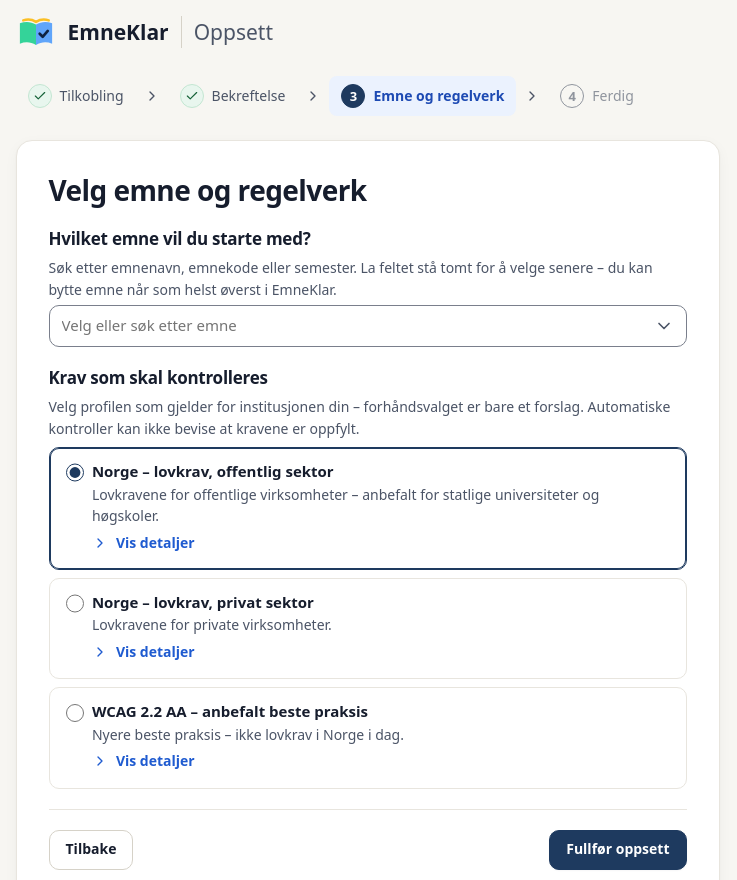
Test: Oppsett i fire steg › searches all the courses in one field – by name, code or term – and says when nothing matches
Click the dropdown named "Startemne" at (368, 326), box [50,306,686,346]
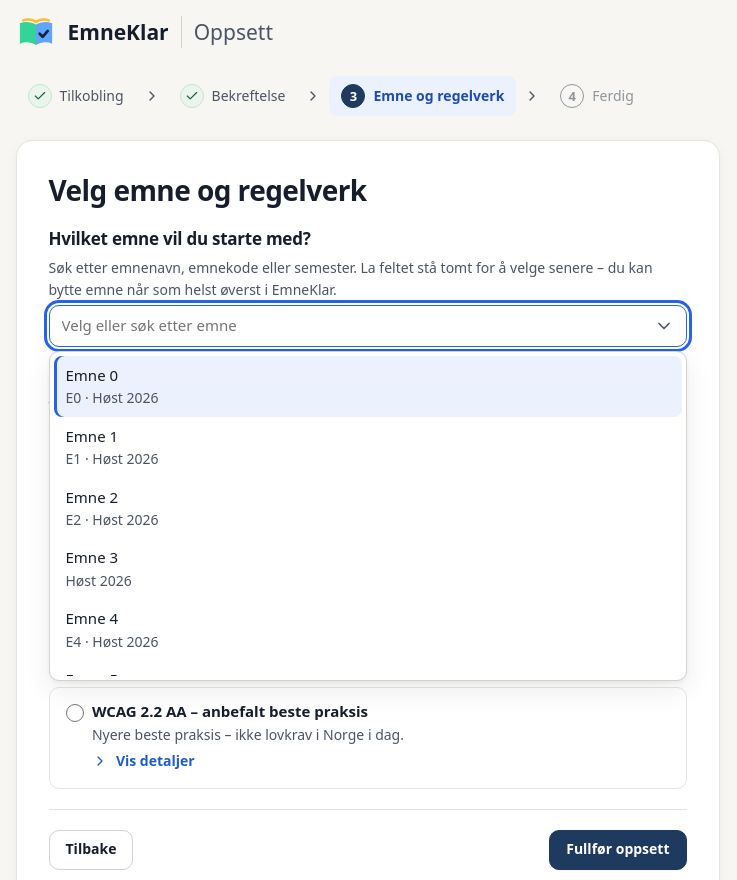
Type "kjemi" into the dropdown named "Startemne" at (368, 326), box [50,306,686,346]
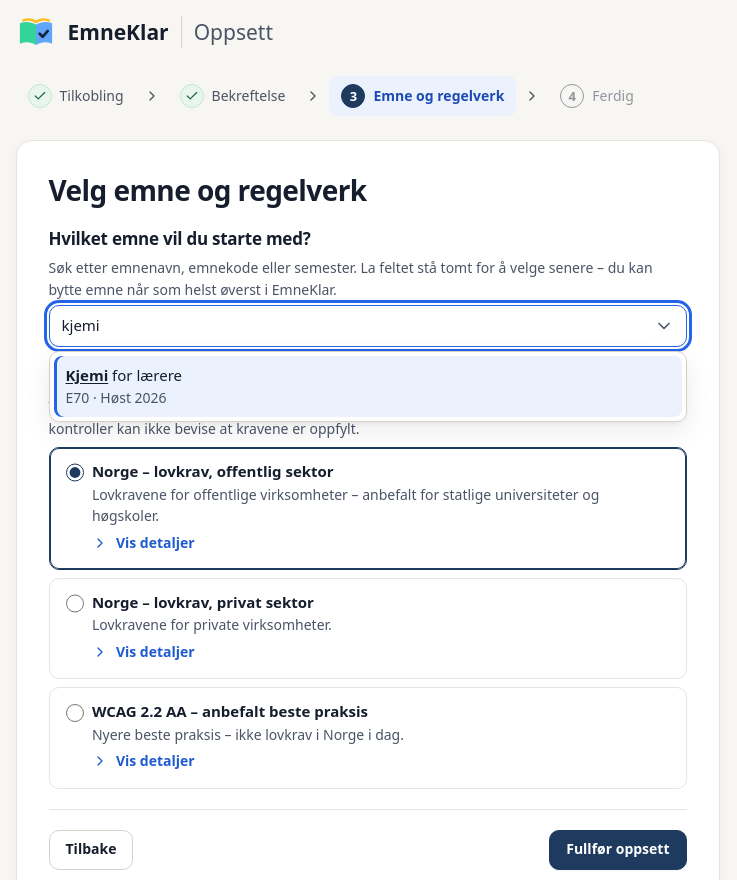
Replace the text in the dropdown named "Startemne" with "vår 2027" at (368, 326), box [50,306,686,346]
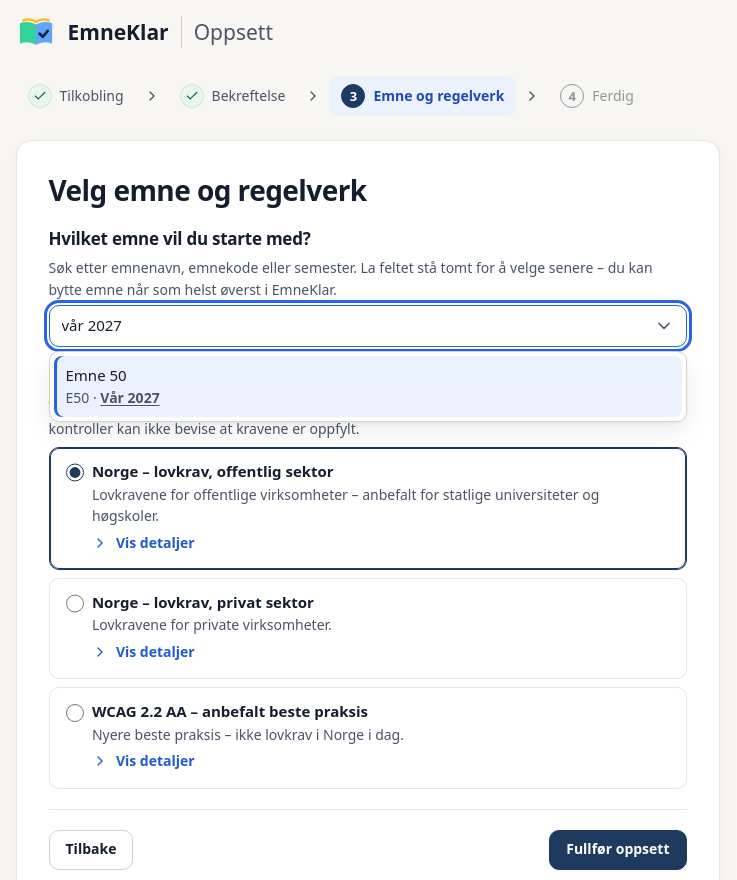
Replace the text in the dropdown named "Startemne" with "fysikk" at (368, 326), box [50,306,686,346]
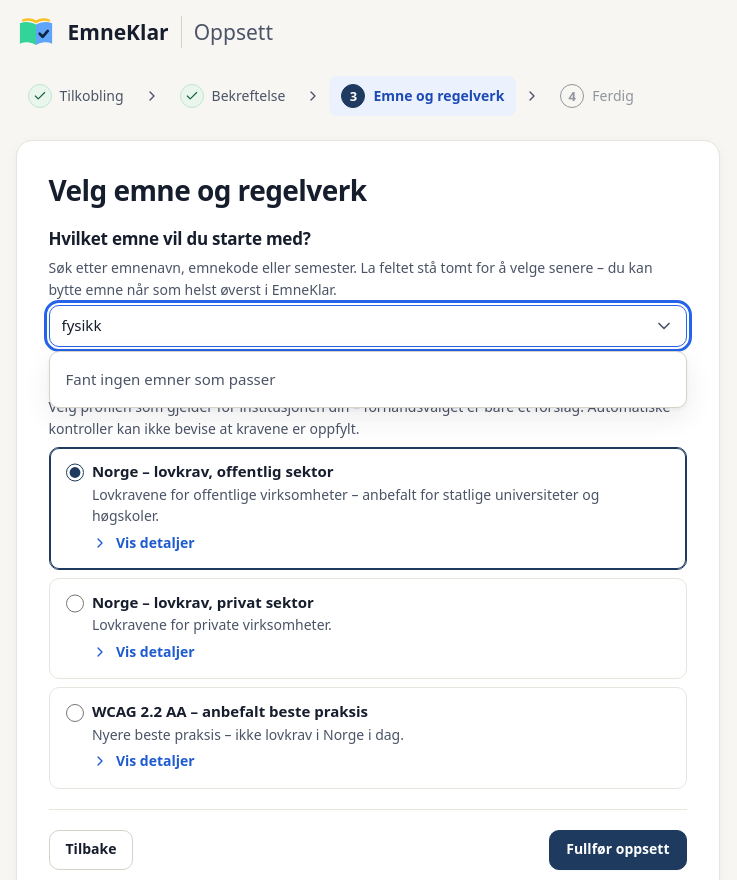
expect the text "Fant ingen emner som passer" is shown 2 times: met
Press Escape
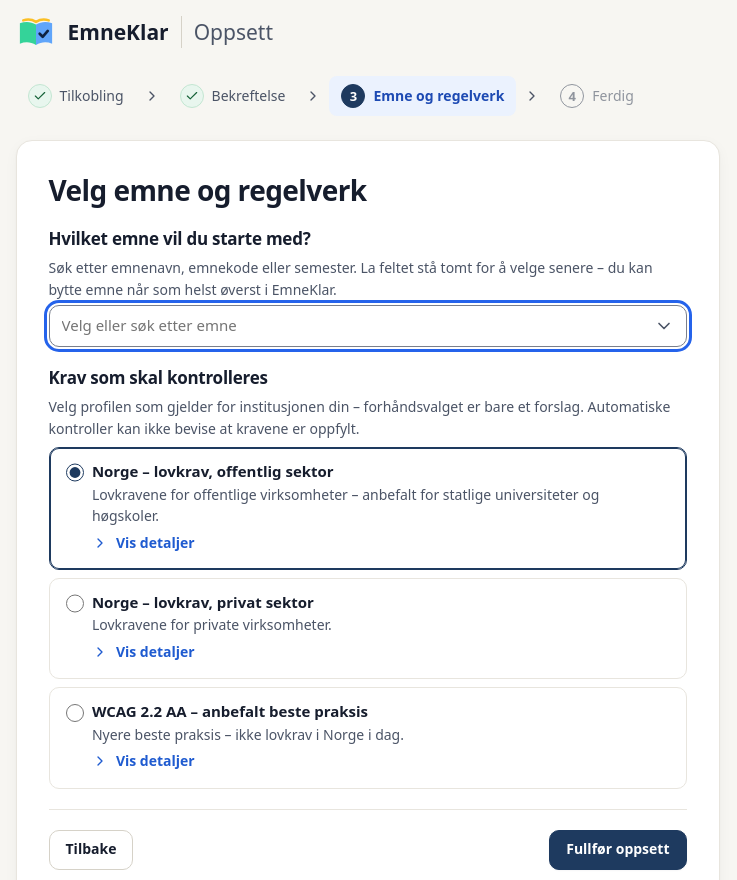
expect the dropdown named "Startemne" is collapsed: met, box [50,306,686,346]
